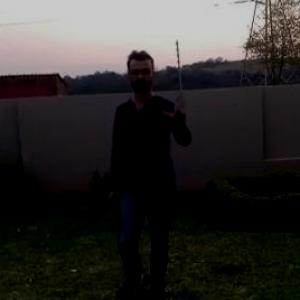land_hand: (156, 88, 188, 131)
